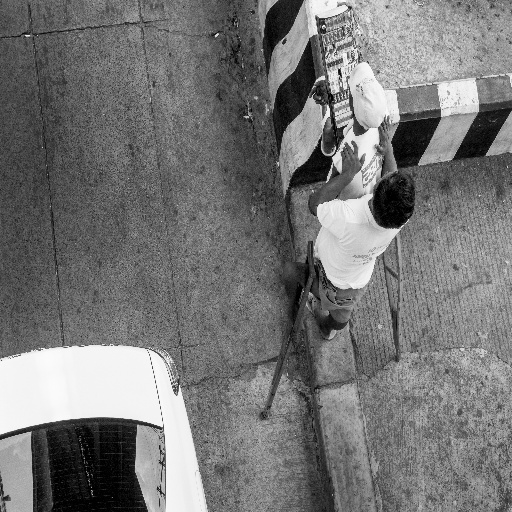hand: (341, 138, 365, 178), (375, 112, 392, 151), (308, 78, 328, 105), (306, 185, 316, 217)
